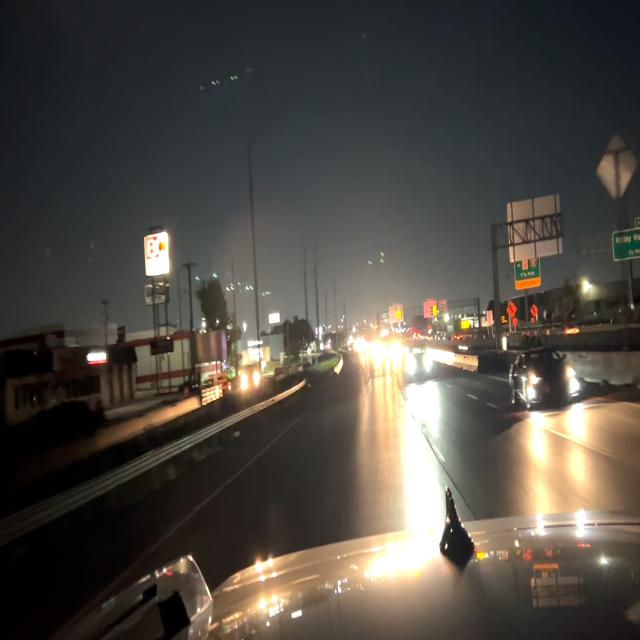back-of-sign: (506, 190, 567, 265), (594, 127, 640, 201)
